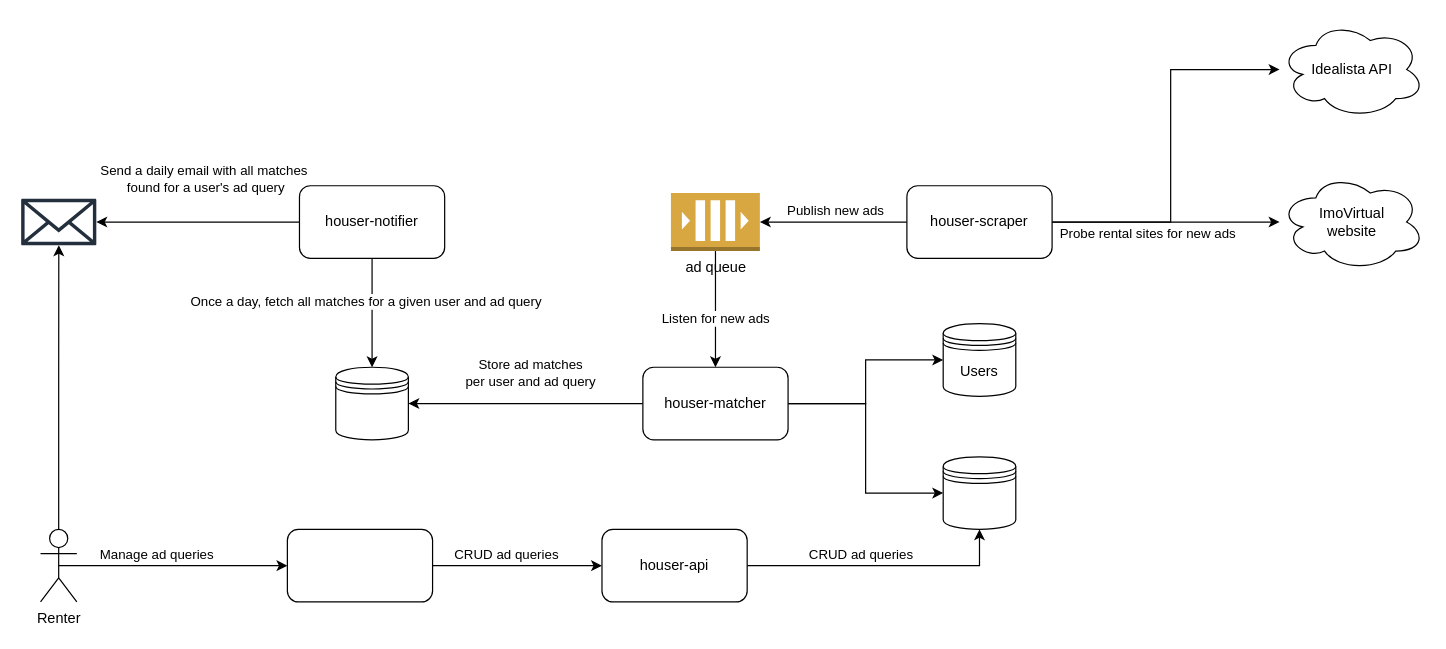
This 1446x649 diagram has some shape labels left out. The shapes that lost their labels are listed below. From the top down, each one's centre as x and y in pixels, then its label:
At point 58,221: "Inbox".
At point 371,403: "Matches".
At point 979,492: "Ad queries".
At point 359,565: "houser-cli".
